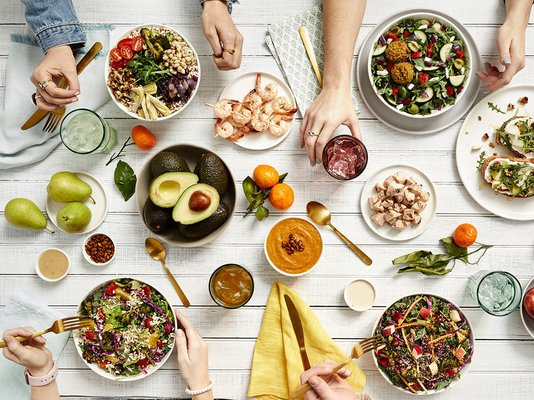burger: (2, 315, 96, 346)
salad: (306, 200, 373, 266), (145, 236, 190, 308)
sushi: (355, 8, 482, 134), (456, 84, 534, 220), (136, 143, 237, 241), (107, 28, 201, 122), (213, 71, 299, 150), (359, 164, 437, 242), (45, 171, 109, 235), (265, 217, 323, 276), (60, 107, 118, 155), (476, 270, 522, 318), (322, 136, 368, 181), (209, 263, 254, 308)
taco: (252, 164, 279, 189), (452, 223, 477, 247)
